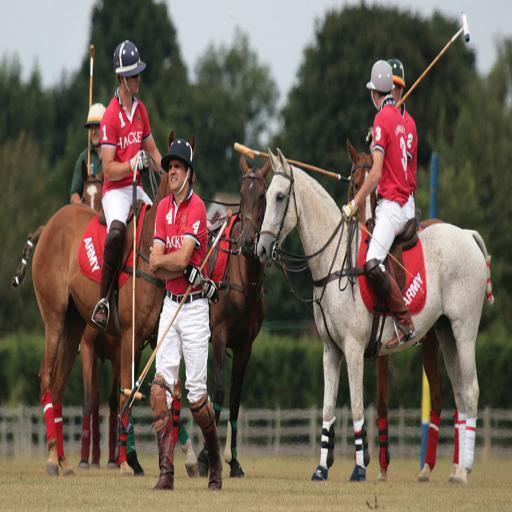horse: (253, 145, 495, 490), (10, 128, 197, 479), (124, 148, 272, 480), (343, 134, 446, 482), (77, 156, 118, 472)
